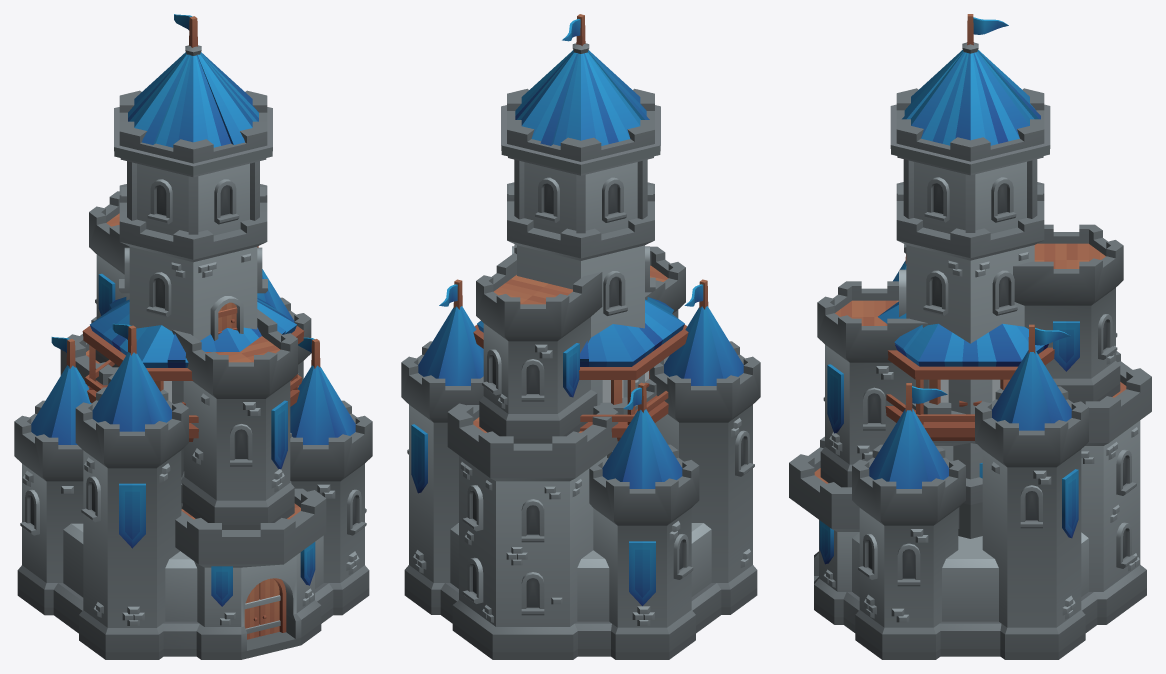
The model's file is keep.glb.
The picture shows the model from 3 angles, left to right: view 1: azimuth 30°, elevation 25°; view 2: azimuth 150°, elevation 25°; view 3: azimuth 270°, elevation 25°; orthographic projection.
Parts seen in each view (by area): view 1: building_castle_blue, building_tower_B_top_blue; view 2: building_castle_blue, building_tower_B_top_blue; view 3: building_castle_blue, building_tower_B_top_blue, building_tower_B_blue.
Part boxes in pixels (bbox=[...]): building_castle_blue: bbox=[14, 14, 372, 659]; building_tower_B_top_blue: bbox=[82, 296, 304, 441]; building_castle_blue: bbox=[401, 14, 760, 659]; building_tower_B_top_blue: bbox=[473, 297, 688, 441]; building_castle_blue: bbox=[789, 14, 1151, 659]; building_tower_B_top_blue: bbox=[878, 301, 1054, 440]; building_tower_B_blue: bbox=[912, 401, 982, 478].
Bounding box in the file's own units: 1.98 × 3.98 × 2.26.
1 material, 1 textured.
